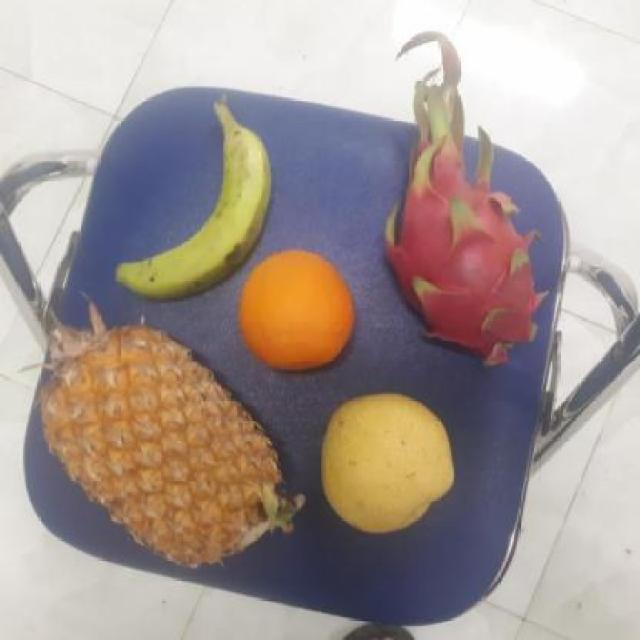banana: (123, 113, 268, 304)
dragon fruit: (374, 139, 558, 359)
oren: (232, 250, 354, 368)
pear: (312, 394, 456, 531)
pineapple: (34, 333, 291, 575)
